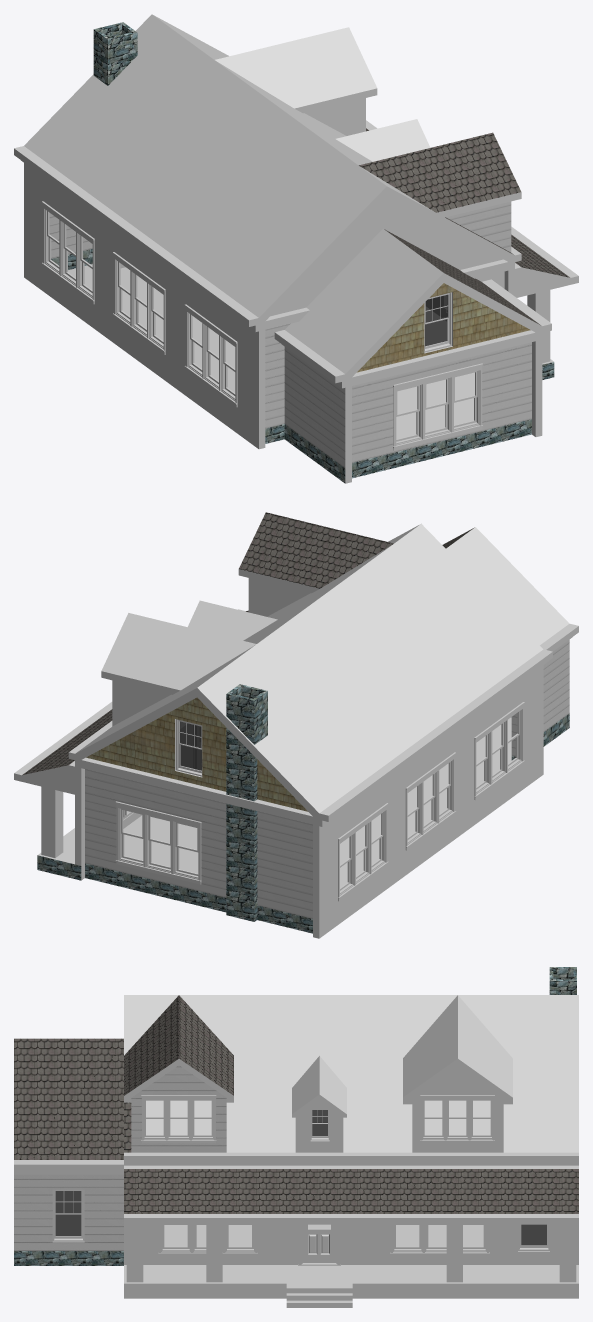
3 views of the same model, one above another, from view 1: azimuth 30°, elevation 25°; view 2: azimuth 150°, elevation 25°; view 3: azimuth 270°, elevation 25° (orthographic). The views are drawn at different scales.
Visible parts, largest first — view 1: Sans_titre_c_House-Default_Material, Sans_titre_c_House-Revtement_bardage_blanc, Sans_titre_c_Window3lite_8_6x5_4-Default_Material, Sans_titre_c_House-Couverturetoit_bardeaux_proprits_GAF, Sans_titre_c_House-images, Sans_titre_c_House-Couverturetoit_bardeaux_bois; view 2: Sans_titre_c_House-Default_Material, Sans_titre_c_House-Revtement_bardage_blanc, Sans_titre_c_House-images, Sans_titre_c_Window3lite_8_6x5_4-Default_Material, Sans_titre_c_House-Couverturetoit_bardeaux_proprits_GAF, Sans_titre_c_House-Couverturetoit_bardeaux_bois; view 3: Sans_titre_c_House-Default_Material, Sans_titre_c_House-Couverturetoit_bardeaux_proprits_GAF, Sans_titre_c_House-Revtement_bardage_blanc, Sans_titre_c_Window3lite_8_6x5_4-Default_Material, Sans_titre_c_House-images, Sans_titre_c_DoorSglExtHeaderWLite_3_0x6_8-Default_Material, Sans_titre_c_Lower_sash-Gray_Glass1, Sans_titre_c_WindowDoubleHung35x63-Default_Material, Sans_titre_c_Upper_sash-Gray_Glass1.
Part boxes in pixels (x1=…): Sans_titre_c_House-Default_Material: x1=14, y1=14, x2=578, y2=483; Sans_titre_c_House-Revtement_bardage_blanc: x1=49, y1=201, x2=531, y2=467; Sans_titre_c_Window3lite_8_6x5_4-Default_Material: x1=41, y1=201, x2=483, y2=450; Sans_titre_c_House-Couverturetoit_bardeaux_proprits_GAF: x1=359, y1=128, x2=569, y2=325; Sans_titre_c_House-images: x1=51, y1=22, x2=554, y2=483; Sans_titre_c_House-Couverturetoit_bardeaux_bois: x1=357, y1=283, x2=530, y2=372; Sans_titre_c_House-Default_Material: x1=14, y1=523, x2=578, y2=938; Sans_titre_c_House-Revtement_bardage_blanc: x1=85, y1=639, x2=569, y2=918; Sans_titre_c_House-images: x1=37, y1=684, x2=569, y2=933; Sans_titre_c_Window3lite_8_6x5_4-Default_Material: x1=115, y1=702, x2=524, y2=901; Sans_titre_c_House-Couverturetoit_bardeaux_proprits_GAF: x1=22, y1=512, x2=474, y2=774; Sans_titre_c_House-Couverturetoit_bardeaux_bois: x1=86, y1=697, x2=307, y2=811; Sans_titre_c_House-Default_Material: x1=14, y1=995, x2=578, y2=1307; Sans_titre_c_House-Couverturetoit_bardeaux_proprits_GAF: x1=14, y1=995, x2=578, y2=1213; Sans_titre_c_House-Revtement_bardage_blanc: x1=14, y1=1065, x2=226, y2=1250; Sans_titre_c_Window3lite_8_6x5_4-Default_Material: x1=141, y1=1095, x2=494, y2=1256; Sans_titre_c_House-images: x1=14, y1=967, x2=576, y2=1265; Sans_titre_c_DoorSglExtHeaderWLite_3_0x6_8-Default_Material: x1=298, y1=1224, x2=340, y2=1265; Sans_titre_c_Lower_sash-Gray_Glass1: x1=55, y1=1124, x2=546, y2=1245; Sans_titre_c_WindowDoubleHung35x63-Default_Material: x1=52, y1=1109, x2=549, y2=1251; Sans_titre_c_Upper_sash-Gray_Glass1: x1=55, y1=1110, x2=327, y2=1213.
Bounding box in the file's own units: 10.21 × 6.86 × 15.65.
Materials: 8 (4 with a texture image).
